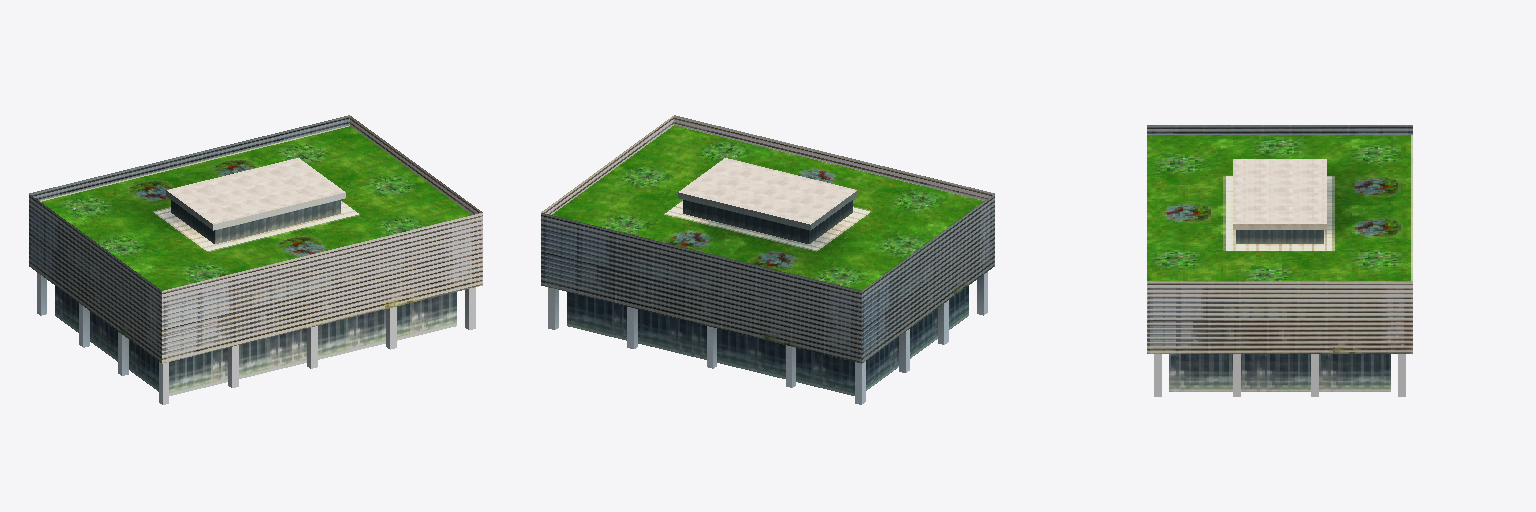
3 renders of one model, left to right at view 1: azimuth 30°, elevation 25°; view 2: azimuth 150°, elevation 25°; view 3: azimuth 270°, elevation 25°, orthographic.
Parts seen in each view (by area): view 1: 4E1; view 2: 4E1; view 3: 4E1.
Boxes of the visible parts, x1,y1,x2,y2 form: 4E1: [29, 115, 482, 404]; 4E1: [541, 115, 994, 404]; 4E1: [1147, 125, 1412, 396].
Bounding box in the file's own units: 34.23 × 13.2 × 24.59.
Materials: 1 (1 with a texture image).